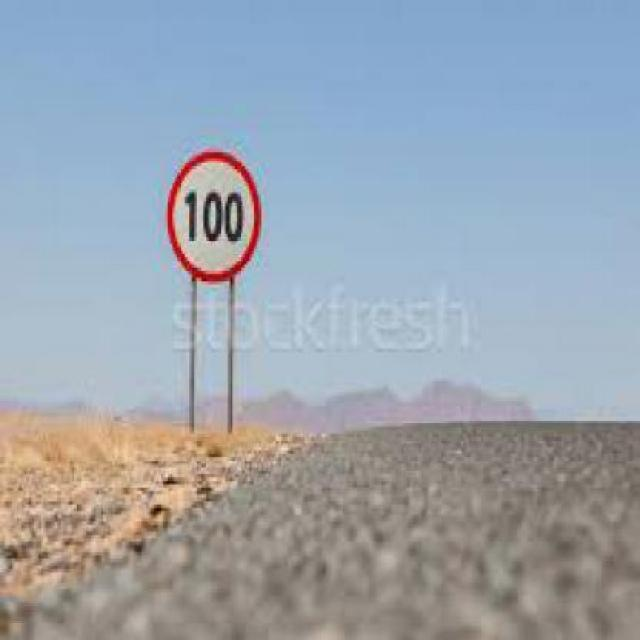traffic_sign: (165, 156, 268, 282)
